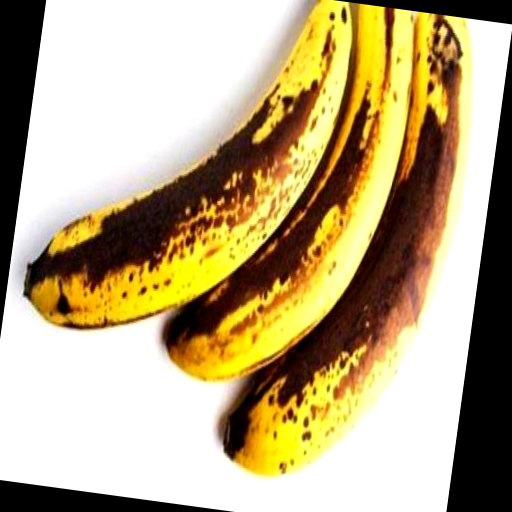fruit: (224, 12, 470, 475), (168, 4, 412, 380)
